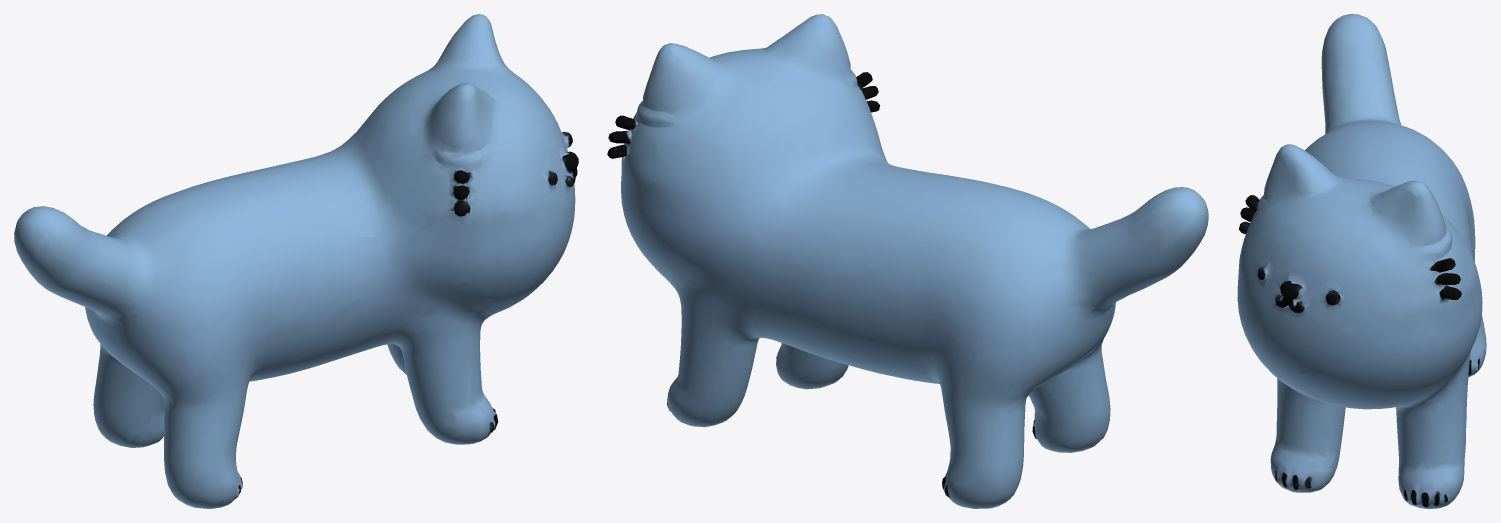
Rendered from sillynubcat.glb.
3 renders of one model, left to right at view 1: azimuth 30°, elevation 25°; view 2: azimuth 150°, elevation 25°; view 3: azimuth 270°, elevation 25°, orthographic. The views are drawn at different scales.
Visible parts, largest first — view 1: tripo_node_6c193458-b946-4899-afc2-fb961f3b6e92; view 2: tripo_node_6c193458-b946-4899-afc2-fb961f3b6e92; view 3: tripo_node_6c193458-b946-4899-afc2-fb961f3b6e92.
Boxes of the visible parts, <box> form: tripo_node_6c193458-b946-4899-afc2-fb961f3b6e92: <box>14,14,578,508</box>; tripo_node_6c193458-b946-4899-afc2-fb961f3b6e92: <box>607,14,1208,508</box>; tripo_node_6c193458-b946-4899-afc2-fb961f3b6e92: <box>1237,14,1486,508</box>.
Size of the model in its own units: 1.59 by 1 by 0.6638.
1 material, 1 textured.
